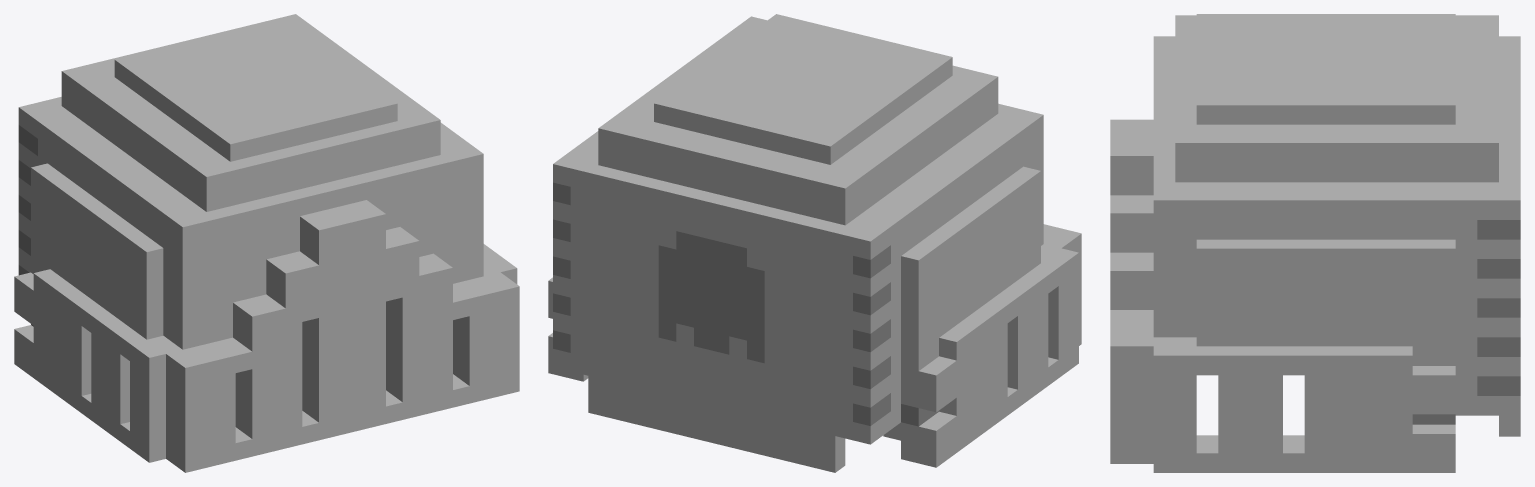
Rendered from knight helm.vox.obj.
3 views of the same model, side by side, from view 1: azimuth 30°, elevation 25°; view 2: azimuth 150°, elevation 25°; view 3: azimuth 270°, elevation 25° (orthographic). The views are drawn at different scales.
Bounding box in the file's own units: 2.2 × 1.6 × 1.9.
Materials: 1 (1 with a texture image).
